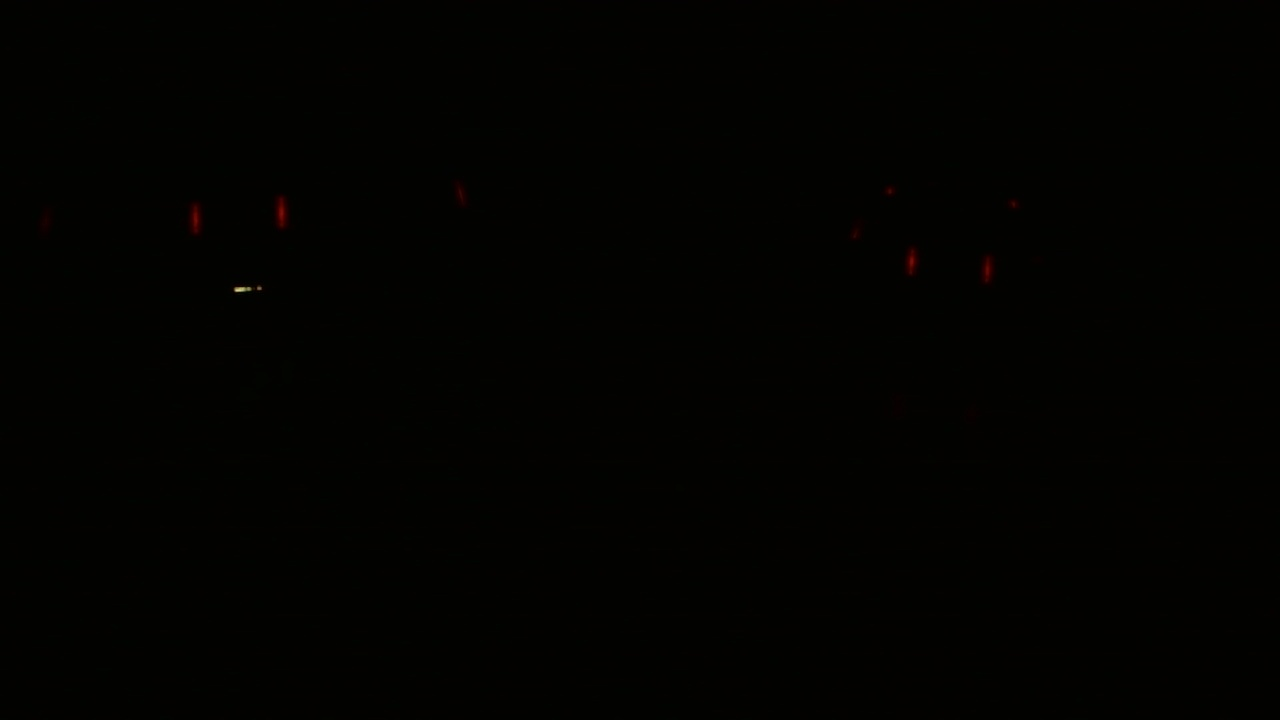pair1: (176, 185, 310, 251)
pair2: (891, 236, 1001, 298)
